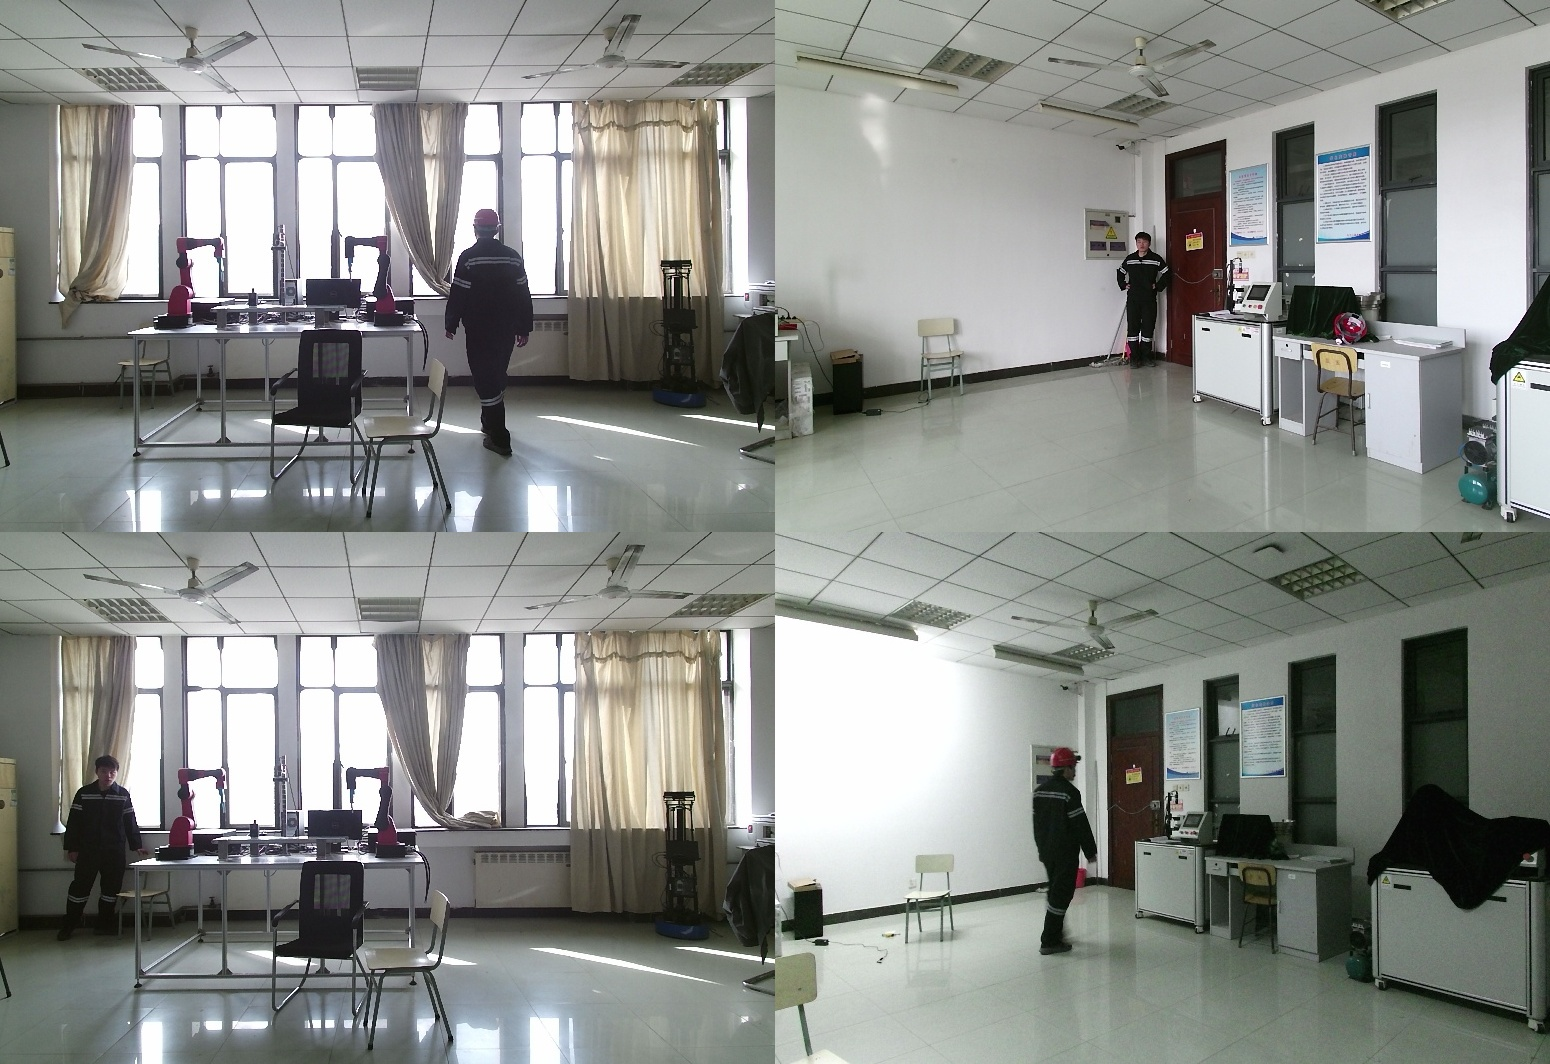person: (449, 206, 541, 457), (59, 756, 146, 941), (1021, 748, 1096, 960), (1114, 232, 1171, 367)
